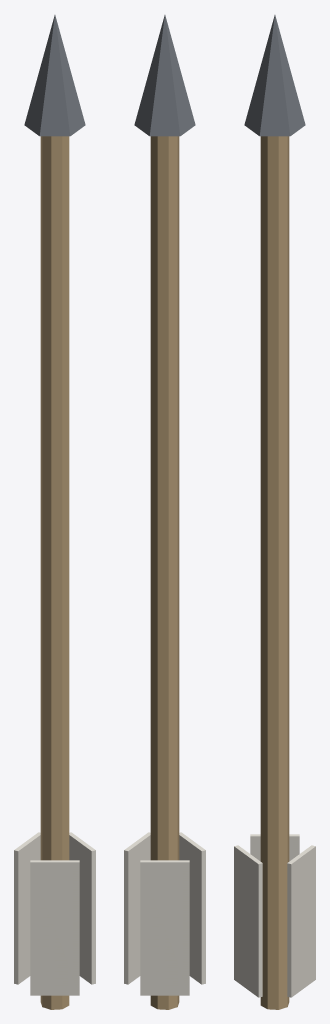
Rendered from arrow.glb.
The picture shows the model from 3 angles, left to right: view 1: azimuth 30°, elevation 25°; view 2: azimuth 150°, elevation 25°; view 3: azimuth 330°, elevation 25°; orthographic projection.
Visible parts, largest first — view 1: ArrowShaft, Cube.002, ArrowHead, Cube, Cube.001; view 2: ArrowShaft, Cube.001, ArrowHead, Cube, Cube.002; view 3: ArrowShaft, ArrowHead, Cube, Cube.002, Cube.001.
Boxes of the visible parts, bbox=[...] form: ArrowShaft: bbox=[40, 136, 69, 1009]; Cube.002: bbox=[30, 860, 79, 995]; ArrowHead: bbox=[24, 15, 85, 136]; Cube: bbox=[69, 832, 95, 984]; Cube.001: bbox=[14, 832, 40, 984]; ArrowShaft: bbox=[150, 136, 179, 1009]; Cube.001: bbox=[140, 860, 189, 995]; ArrowHead: bbox=[134, 15, 195, 136]; Cube: bbox=[124, 832, 150, 984]; Cube.002: bbox=[179, 832, 205, 984]; ArrowShaft: bbox=[260, 136, 289, 1009]; ArrowHead: bbox=[244, 15, 305, 136]; Cube: bbox=[287, 845, 315, 997]; Cube.002: bbox=[234, 845, 262, 997]; Cube.001: bbox=[250, 834, 299, 861].
Bounding box in the file's own units: 0.0578 × 0.89 × 0.0668.
